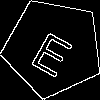E: (28, 23, 81, 79)
